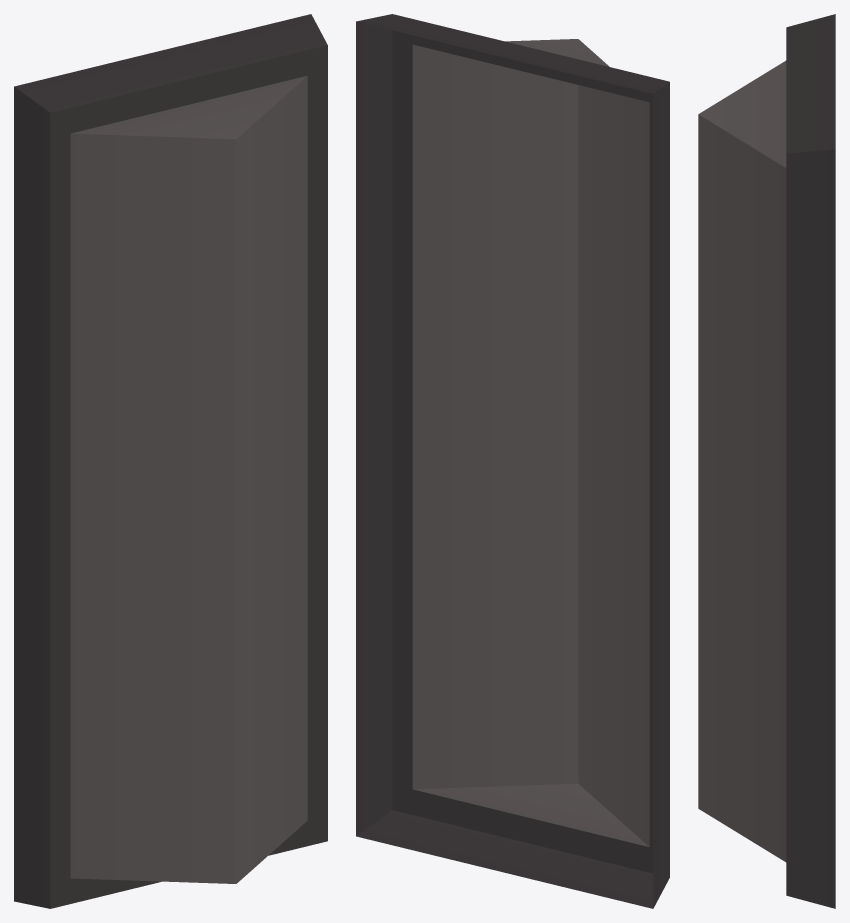
File: village_town_grave.glb
3 views of the same model, side by side, from view 1: azimuth 30°, elevation 25°; view 2: azimuth 150°, elevation 25°; view 3: azimuth 270°, elevation 25° (orthographic). The views are drawn at different scales.
Visible parts, largest first — view 1: grave; view 2: grave; view 3: grave.
Boxes of the visible parts, left/top/right/bottom form: grave: left=14, top=14, right=327, bottom=908; grave: left=356, top=14, right=669, bottom=908; grave: left=698, top=14, right=835, bottom=908.
Size of the model in its own units: 0.4547 by 1.19 by 0.1953.
Materials: 1 (1 with a texture image).
